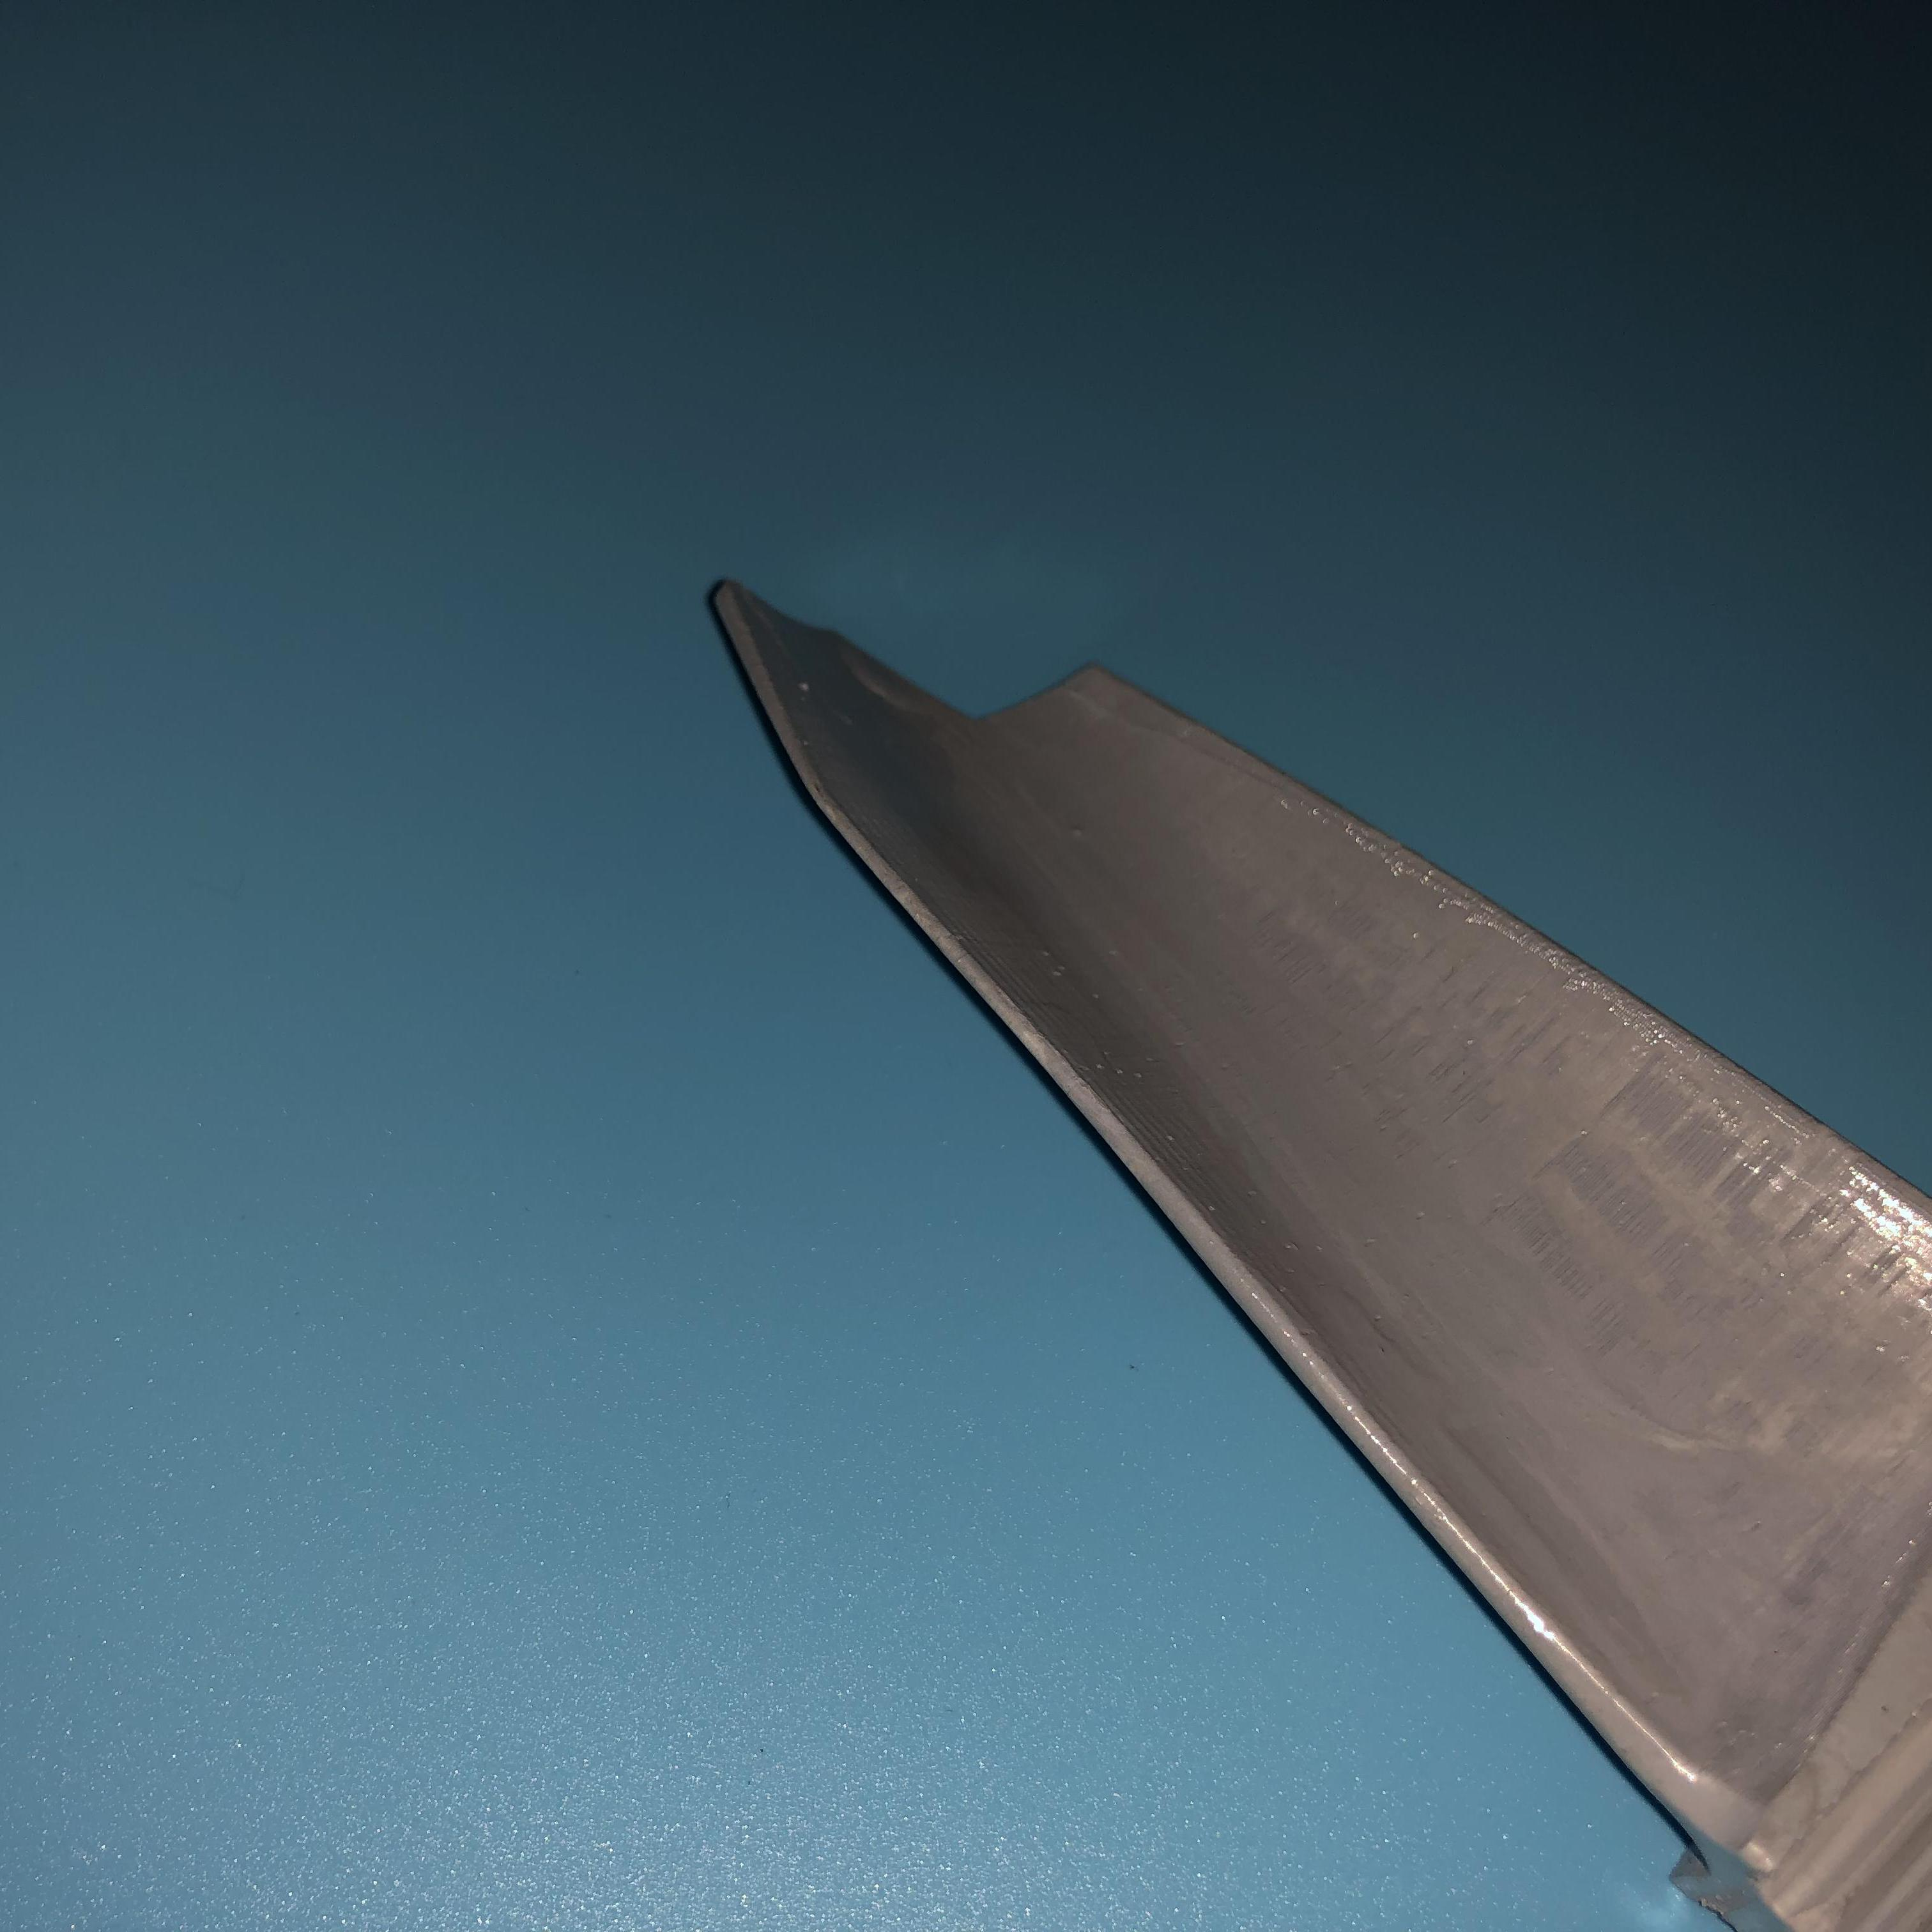fracture: (743, 566, 1123, 734)
